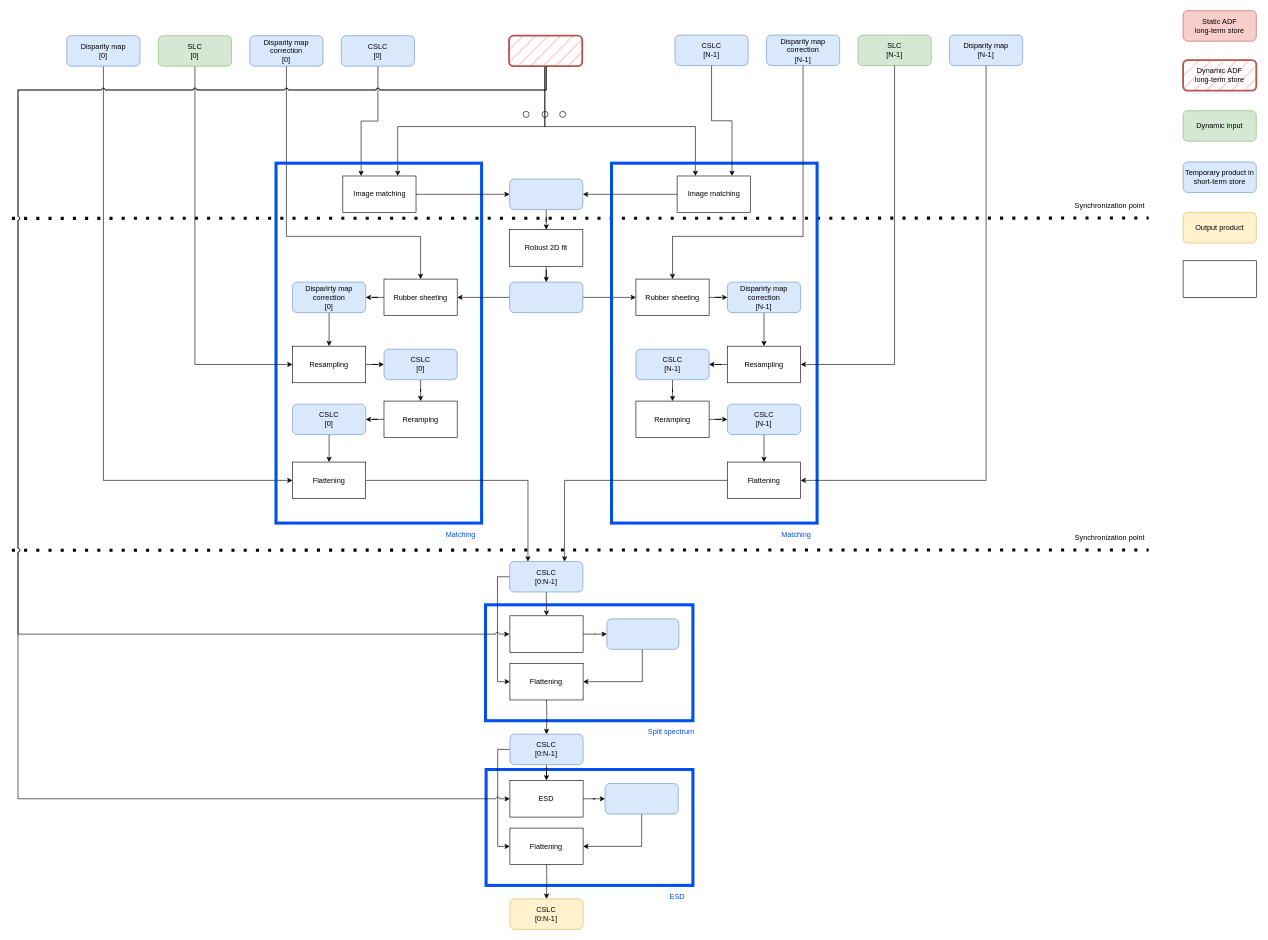
Some shapes in this 1268 by 940 pixel diagram are drawn without their labels. Here are the shapes that lost their labels. From the top down, the centre of each, then its label:
At [545,50]: "Reference CSLC [0:N-1]".
At [546,194]: "Patches [0:N-1]".
At [546,297]: "matching_poly".
At [1219,278]: "Processing block".
At [546,633]: "Split-Spectrum".
At [642,633]: "iono_phase".
At [641,798]: "ESD_phase".
